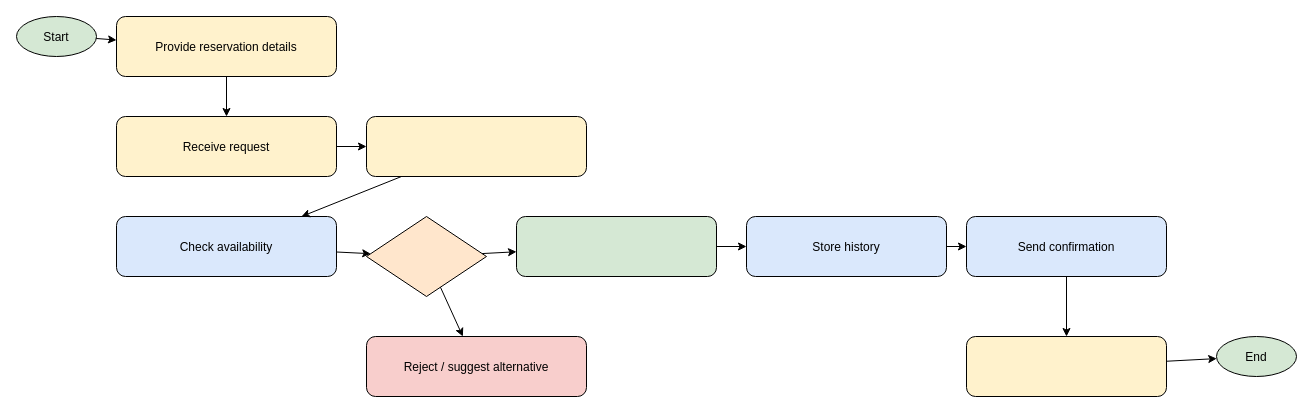
Image size: 1313x413. Some labels were removed from this diagram. The shapes that lost their labels are listed below. From the top down, each one's centre as x and y in pixels, then its label:
At pixel 476 146: "Enter data".
At pixel 426 256: "Double booking?".
At pixel 616 246: "Create reservation".
At pixel 1066 366: "Notify staff".
